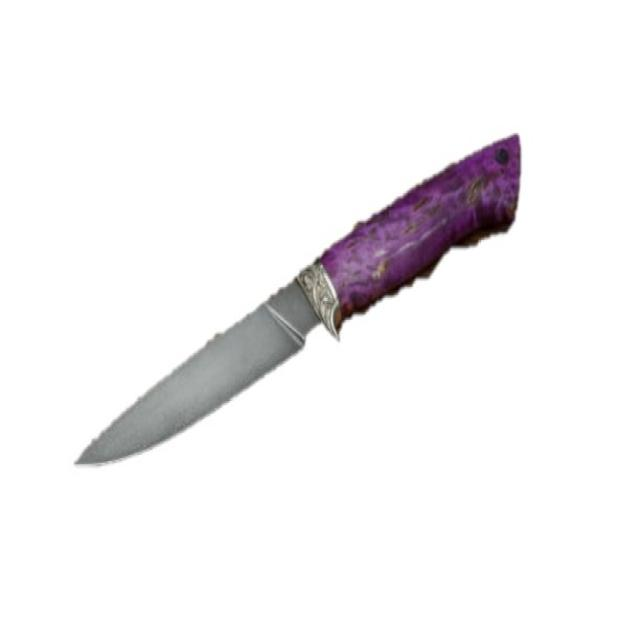knife: (73, 127, 530, 482)
